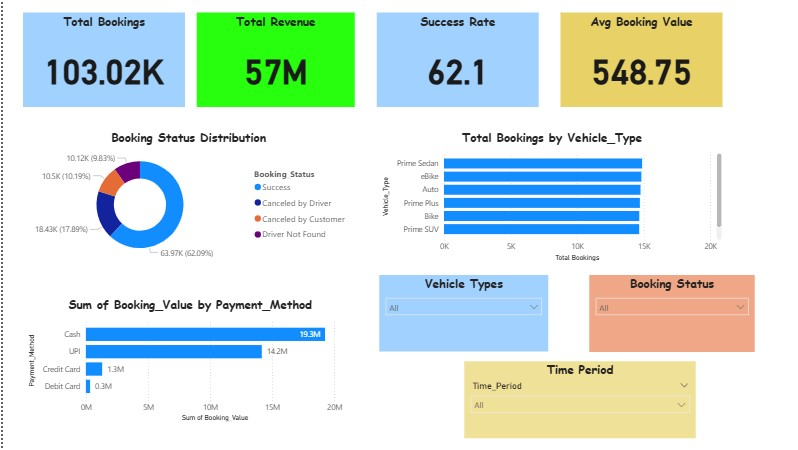

The dashboard page shown, as its layout file describes it:
{"tool":"powerbi","page":{"name":"Executive Dashboard","canvas":[1280,720],"ordinal":0},"visuals":[{"type":"card","title":"Total Bookings","fields":{"Values":["CountNonNull(cleaned_bookings.Booking_ID)"]},"box":[32.9,19.2,259.3,150.9],"z":0},{"type":"card","title":"Total Revenue","fields":{"Values":["Sum(cleaned_bookings.Booking_Value)"]},"box":[310.1,19.2,252.5,150.9],"z":1000},{"type":"card","title":"Success Rate","fields":{"Values":["cleaned_bookings.Success Rate"]},"box":[598.3,19.2,259.3,150.9],"z":2000},{"type":"card","title":"Avg  Booking Value","fields":{"Values":["Avg(cleaned_bookings.Booking_Value)"]},"box":[891.9,19.2,259.3,150.9],"z":3000},{"type":"donutChart","title":"Booking Status Distribution","fields":{"Category":["cleaned_bookings.Booking_Status"],"Y":["CountNonNull(cleaned_bookings.Booking_ID)"]},"box":[32.9,205.8,529.7,216.8],"z":4000},{"type":"barChart","fields":{"Category":["cleaned_bookings.Vehicle_Type"],"Y":["cleaned_bookings.Total Bookings"]},"box":[602.4,205.8,553,216.8],"z":5000},{"type":"barChart","fields":{"Category":["cleaned_bookings.Payment_Method"],"Y":["Sum(cleaned_bookings.Booking_Value)"]},"box":[35.7,474.8,526.9,205.8],"z":6000},{"type":"slicer","title":"Vehicle Types","fields":{"Values":["cleaned_bookings.Vehicle_Type"]},"box":[602.4,440.5,270.3,122.1],"z":6001},{"type":"slicer","title":"Booking Status","fields":{"Values":["cleaned_bookings.Booking_Status"]},"box":[937.2,439.1,264.8,123.5],"z":6002},{"type":"slicer","title":"Time Period","fields":{"Values":["cleaned_bookings.Time_Period"]},"box":[738.3,577.7,370.5,123.5],"z":6003}]}

Visuals, with their boxes in screenshot pixels (x1, y1, x2, y2), scaled from the page's 1280x720 canvas onto the 798x450 screenshot:
"Total Bookings" card: pyautogui.locateOnScreen(21, 12, 182, 106)
"Total Revenue" card: pyautogui.locateOnScreen(193, 12, 351, 106)
"Success Rate" card: pyautogui.locateOnScreen(373, 12, 535, 106)
"Avg  Booking Value" card: pyautogui.locateOnScreen(556, 12, 718, 106)
"Booking Status Distribution" donutChart: pyautogui.locateOnScreen(21, 129, 351, 264)
barChart - cleaned_bookings.Vehicle_Type x cleaned_bookings.Total Bookings: pyautogui.locateOnScreen(376, 129, 720, 264)
barChart - cleaned_bookings.Payment_Method x Sum(cleaned_bookings.Booking_Value): pyautogui.locateOnScreen(22, 297, 351, 425)
"Vehicle Types" slicer: pyautogui.locateOnScreen(376, 275, 544, 352)
"Booking Status" slicer: pyautogui.locateOnScreen(584, 274, 749, 352)
"Time Period" slicer: pyautogui.locateOnScreen(460, 361, 691, 438)
